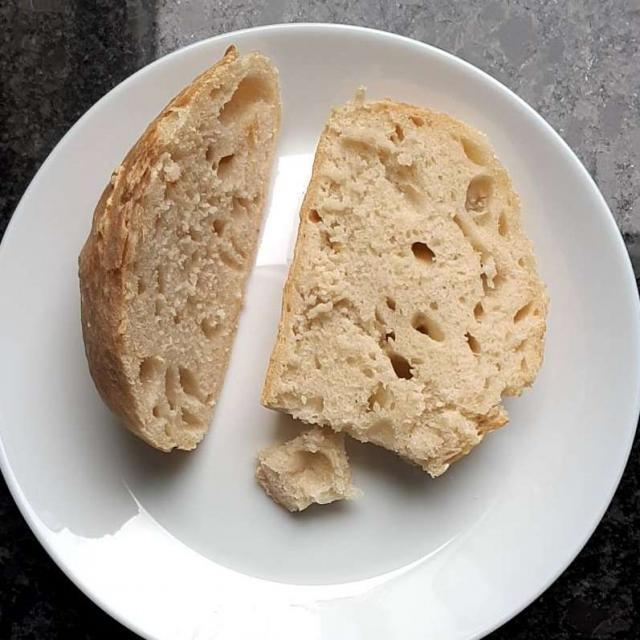bread: (95, 44, 554, 507)
